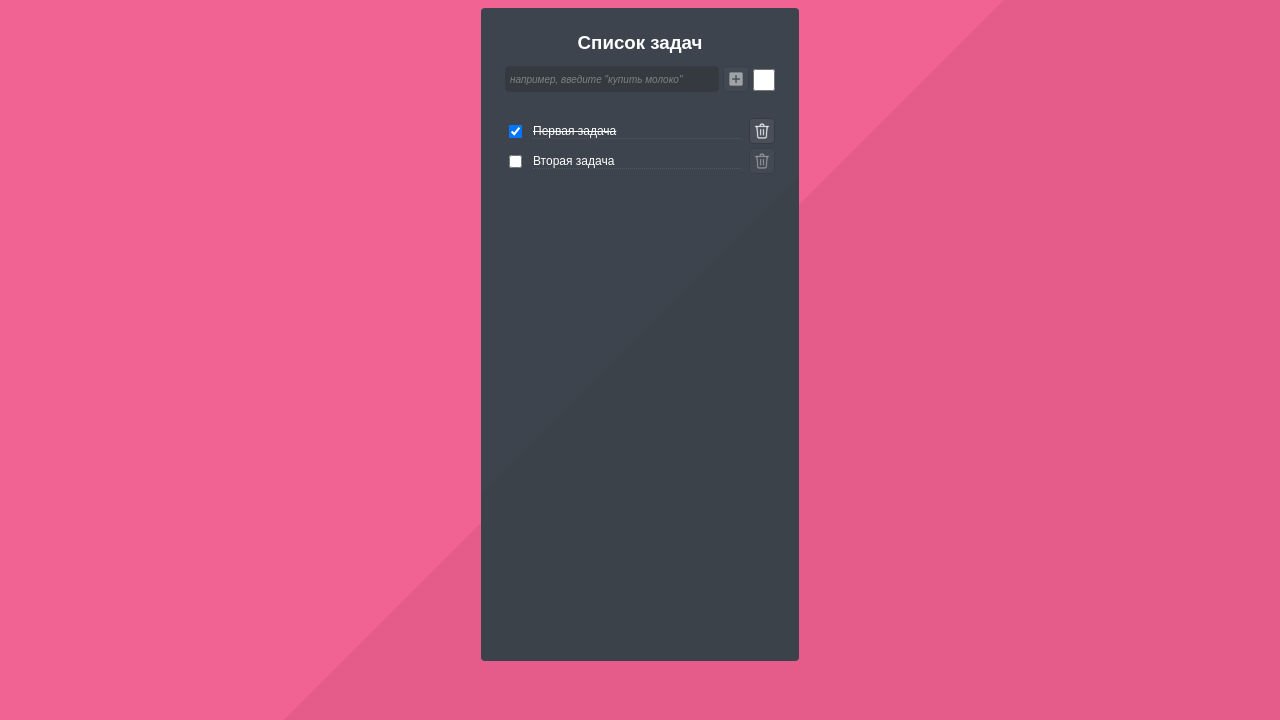
it: список задач › кнопка фильтрации корректно принимает состояние активна/неактивна при пустом списке задач и при всех выполненных задачах, но отключенном фильтре
Expected: the checkbox with alt text "фильтровать задачу" is enabled, x1=753 y1=66 x2=775 y2=94
Step 1. Click the text "Вторая задача" → (637, 161), box x1=533 y1=154 x2=741 y2=168
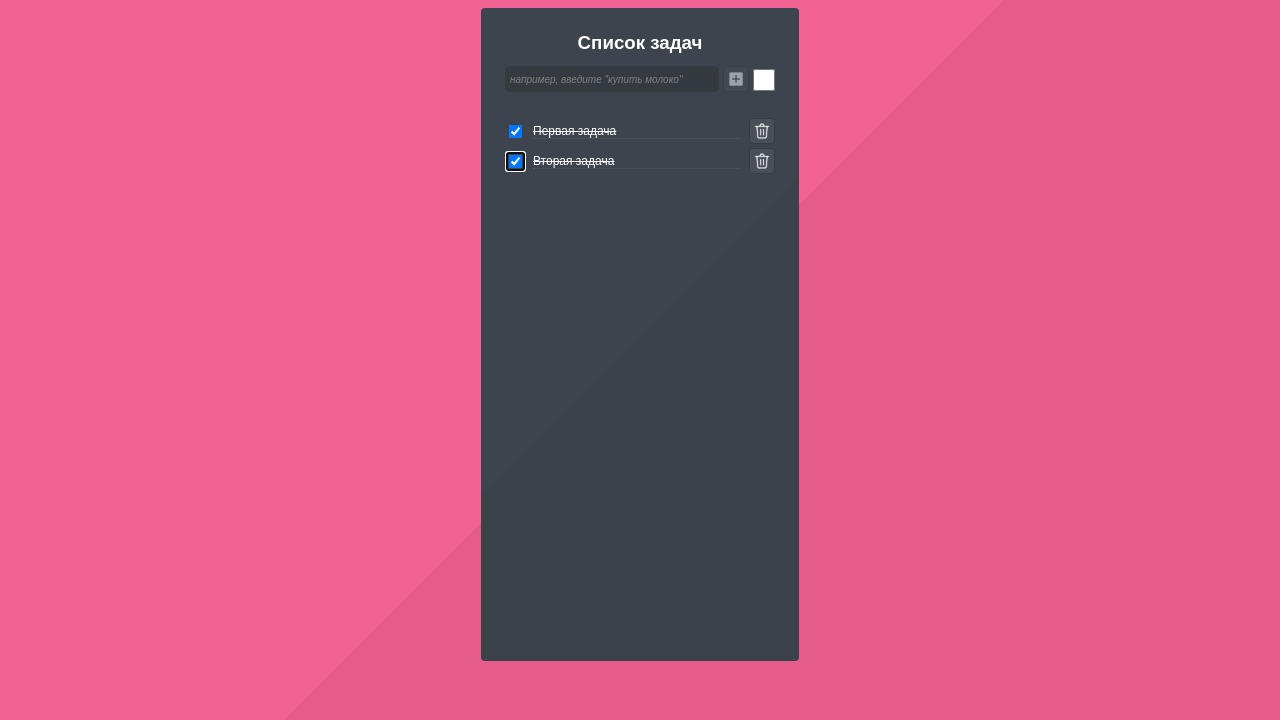
Step 2. Click the button without text next to "Первая задача" → (762, 131), box x1=749 y1=118 x2=775 y2=144
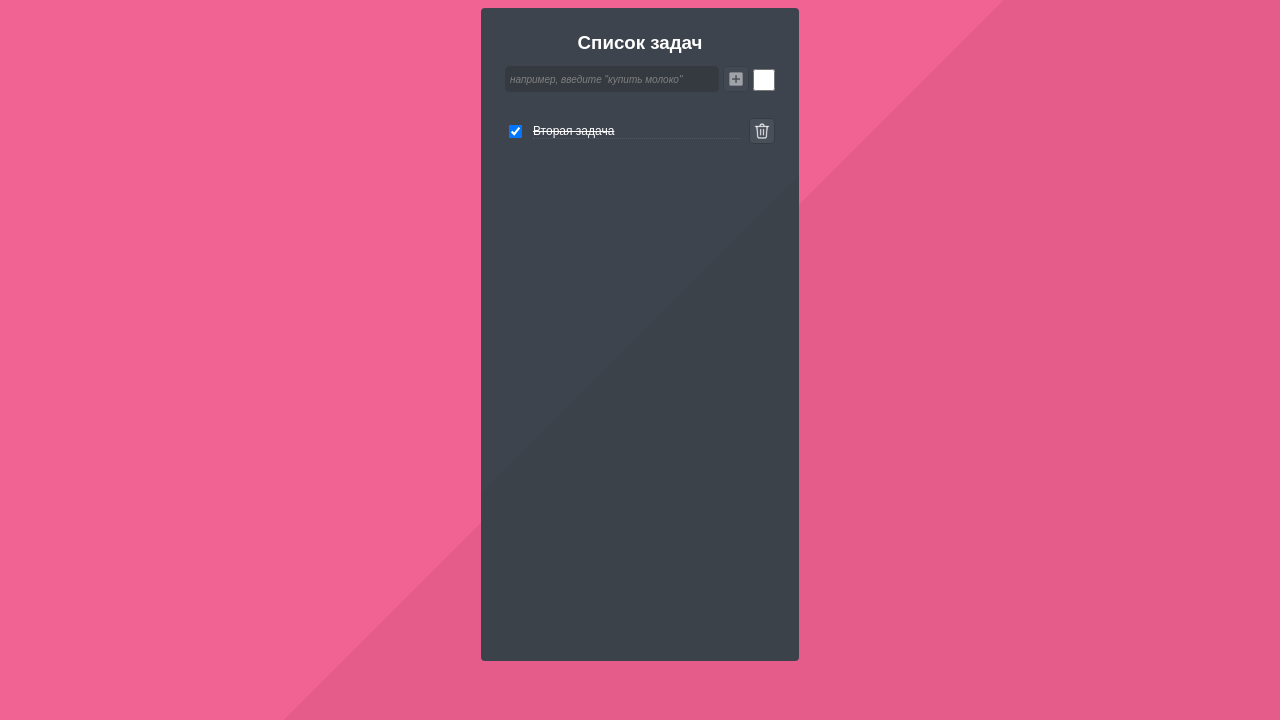
Step 3. Click the button without text next to "Вторая задача" → (762, 131), box x1=749 y1=118 x2=775 y2=144
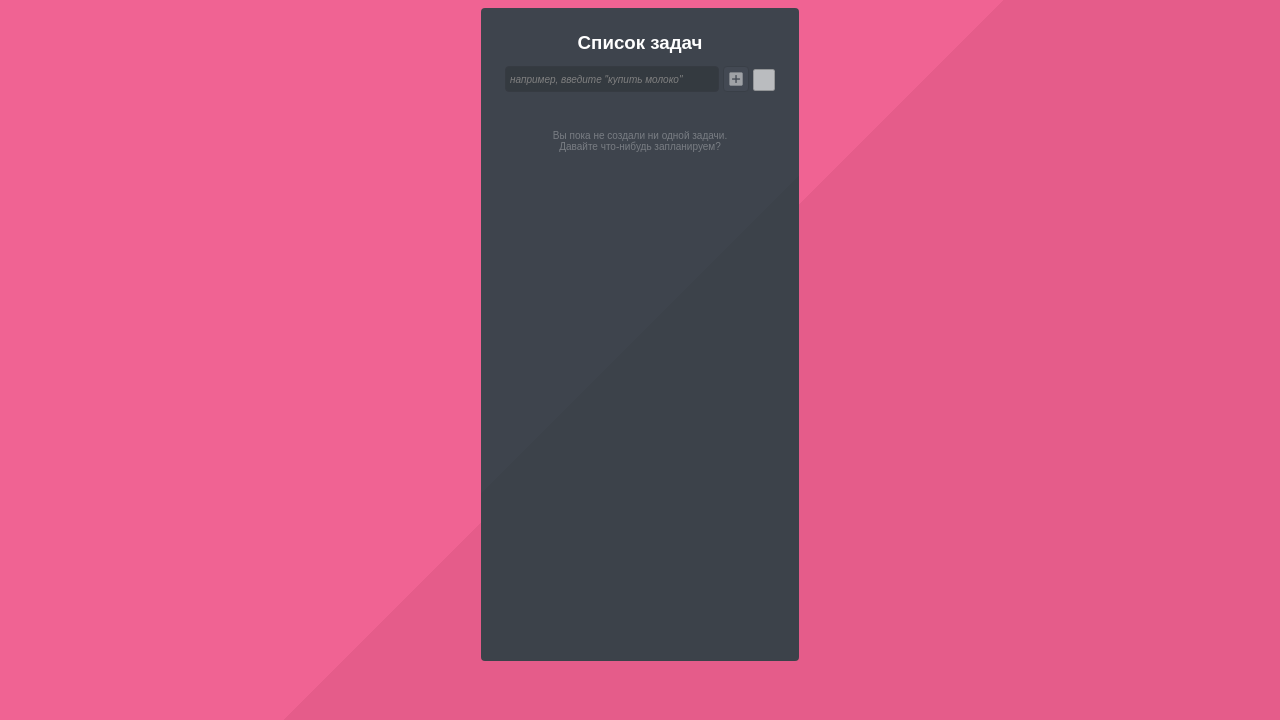
Now the checkbox with alt text "фильтровать задачу" is disabled, box x1=753 y1=66 x2=775 y2=94
